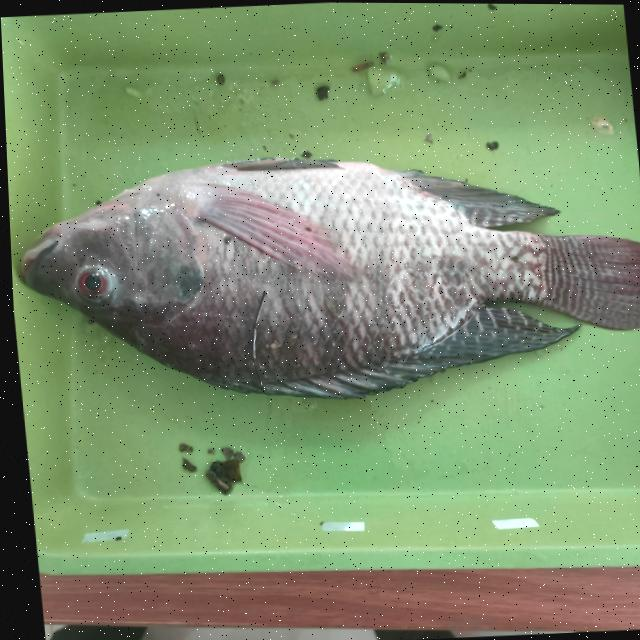Fresh: (149, 138, 640, 412), (56, 237, 146, 317)
